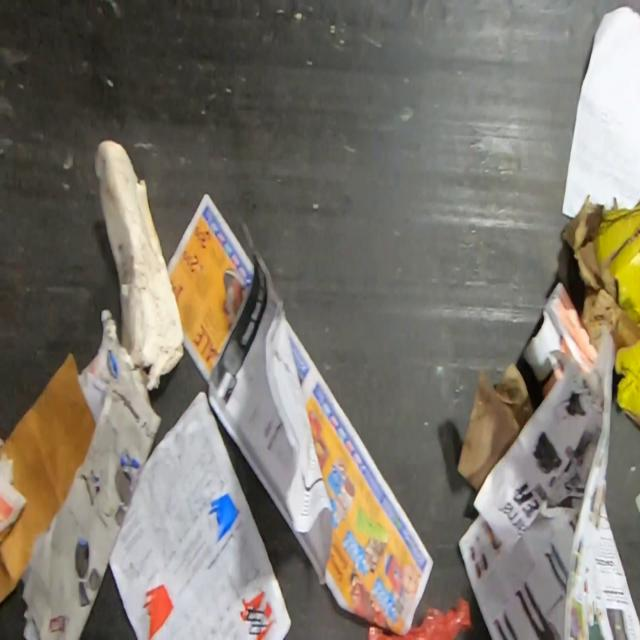cardboard: (0, 349, 97, 610), (560, 192, 640, 429)
soft_plastic: (365, 593, 474, 640)
